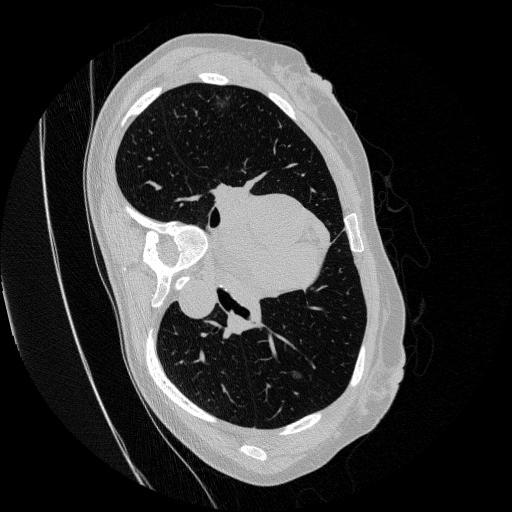nodule: (290, 368, 306, 384)
